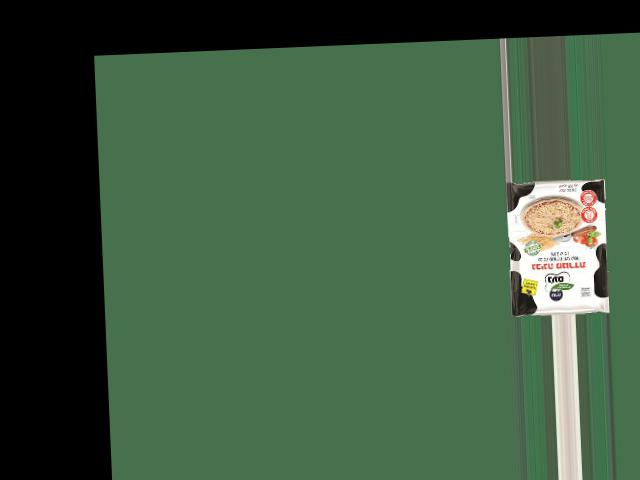cheese: (503, 184, 626, 306)
